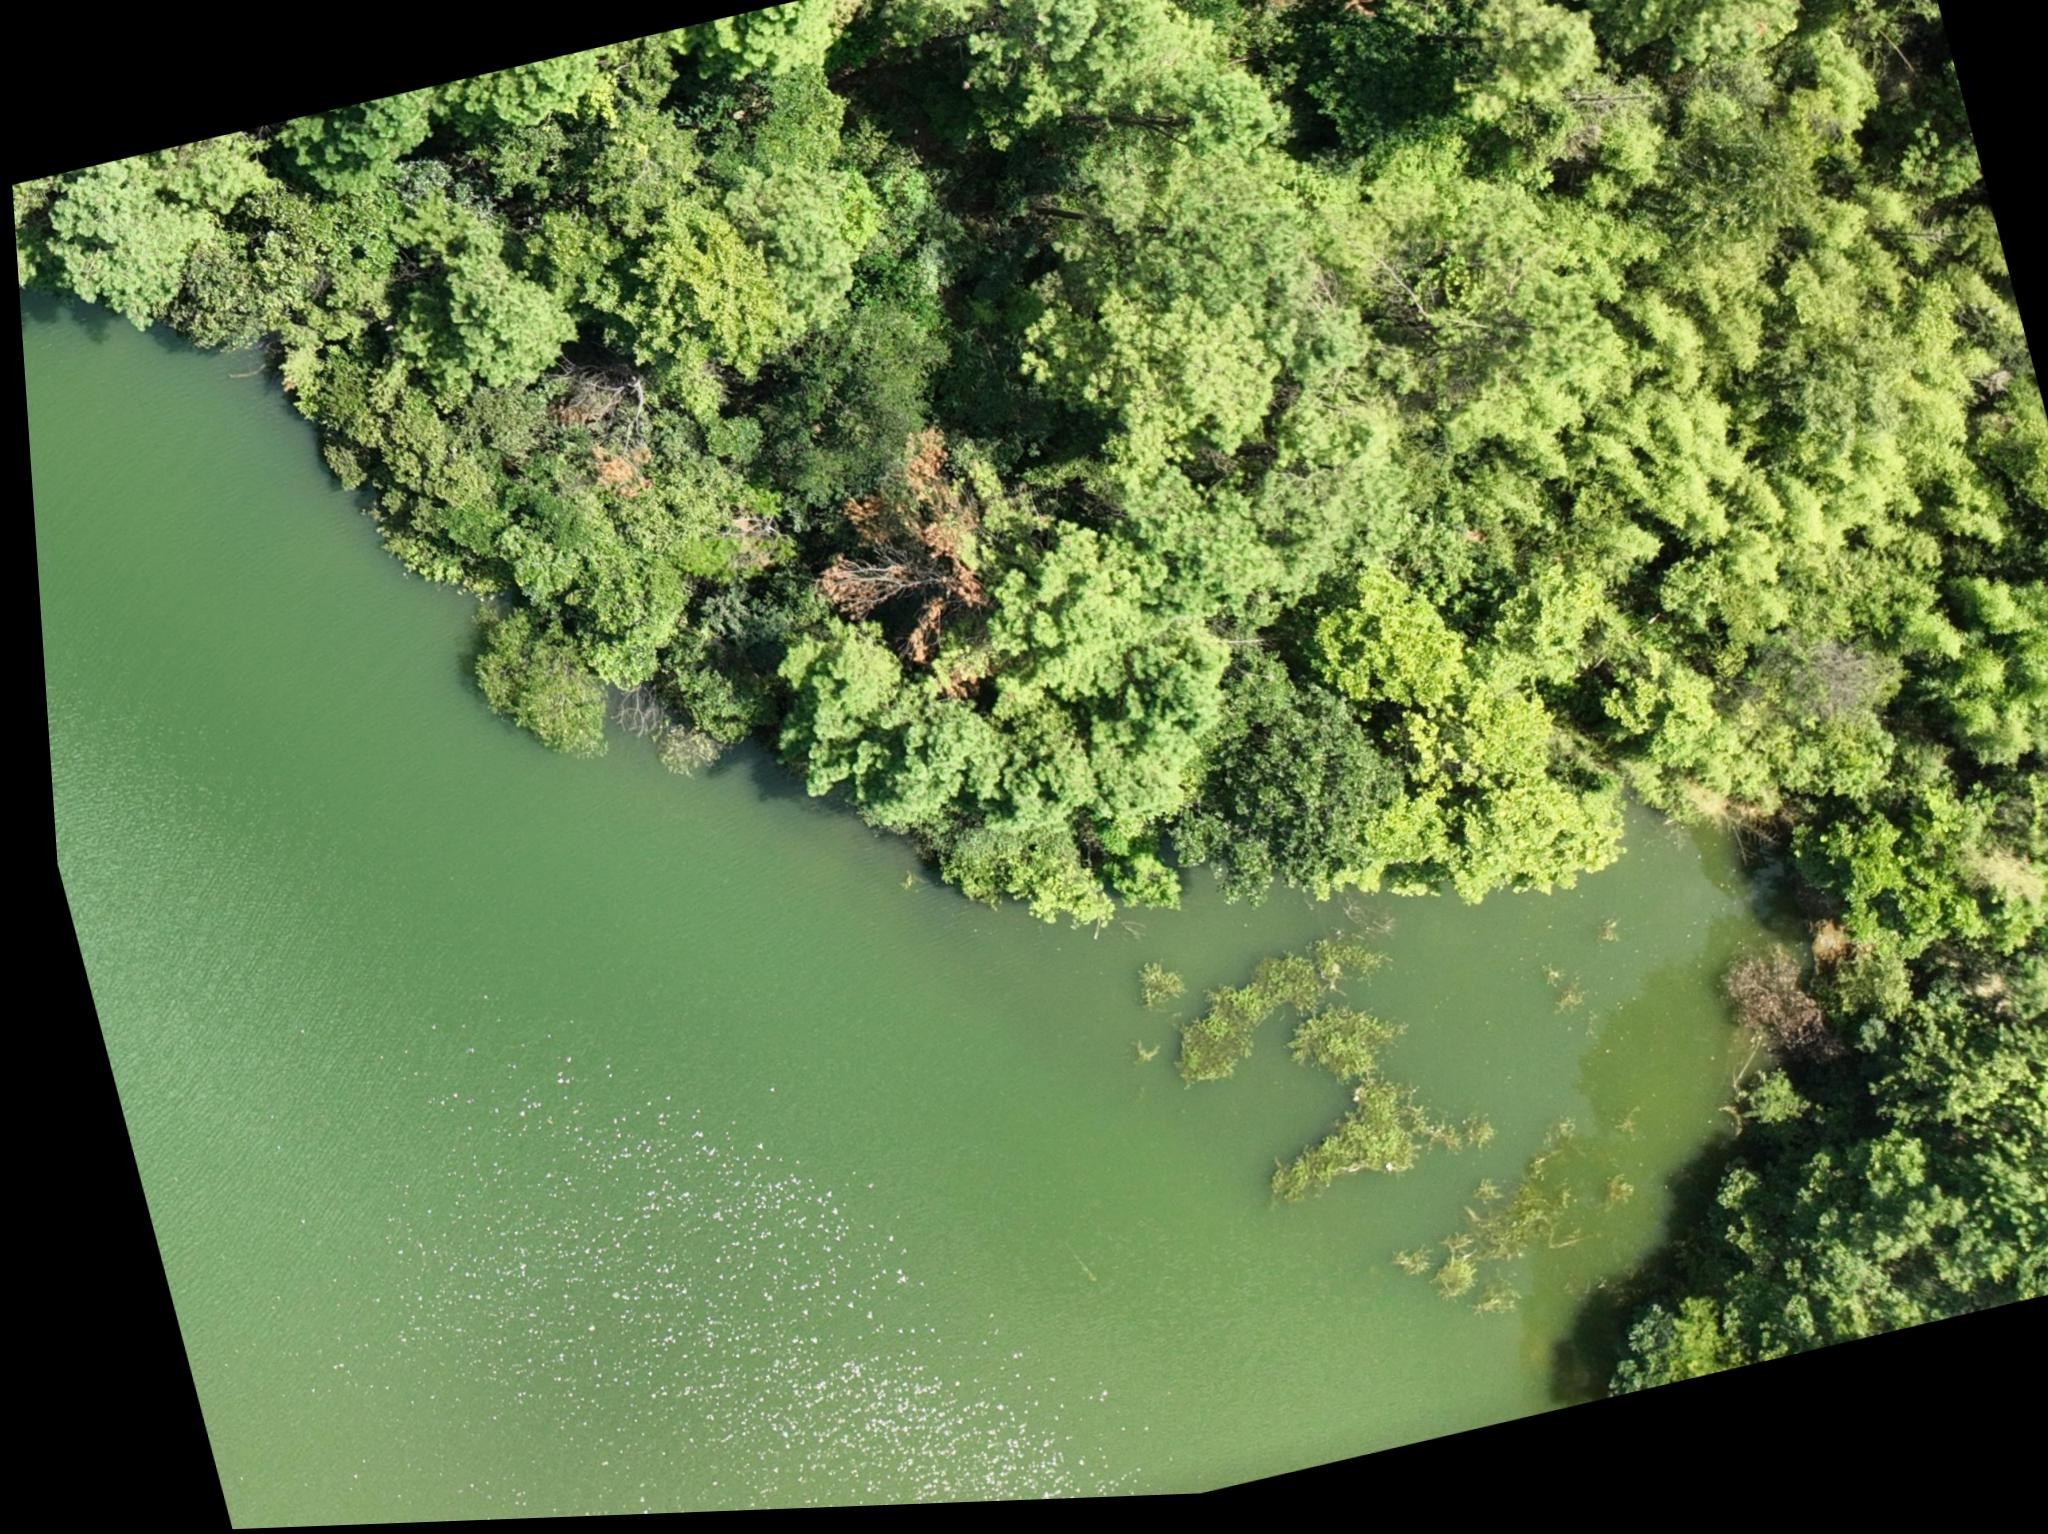heavy: (781, 424, 1007, 683), (546, 369, 662, 516), (1212, 0, 1395, 58)
